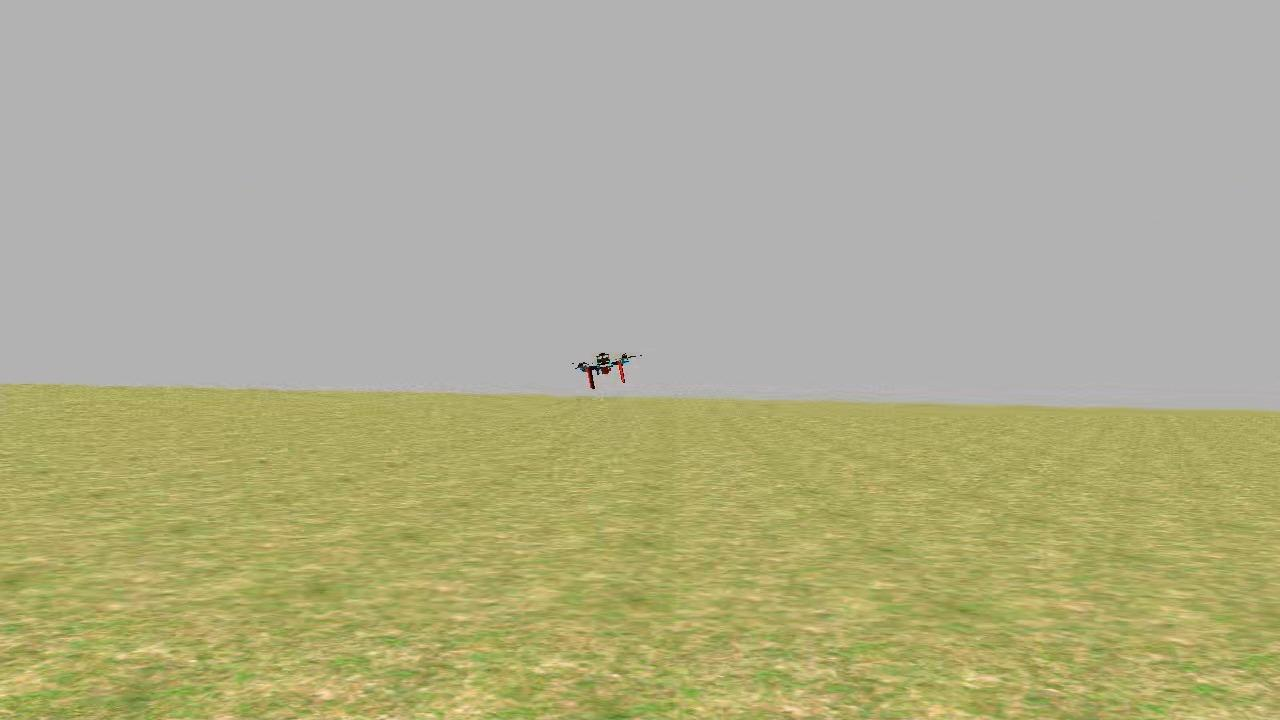UAV: (565, 342, 650, 395)
